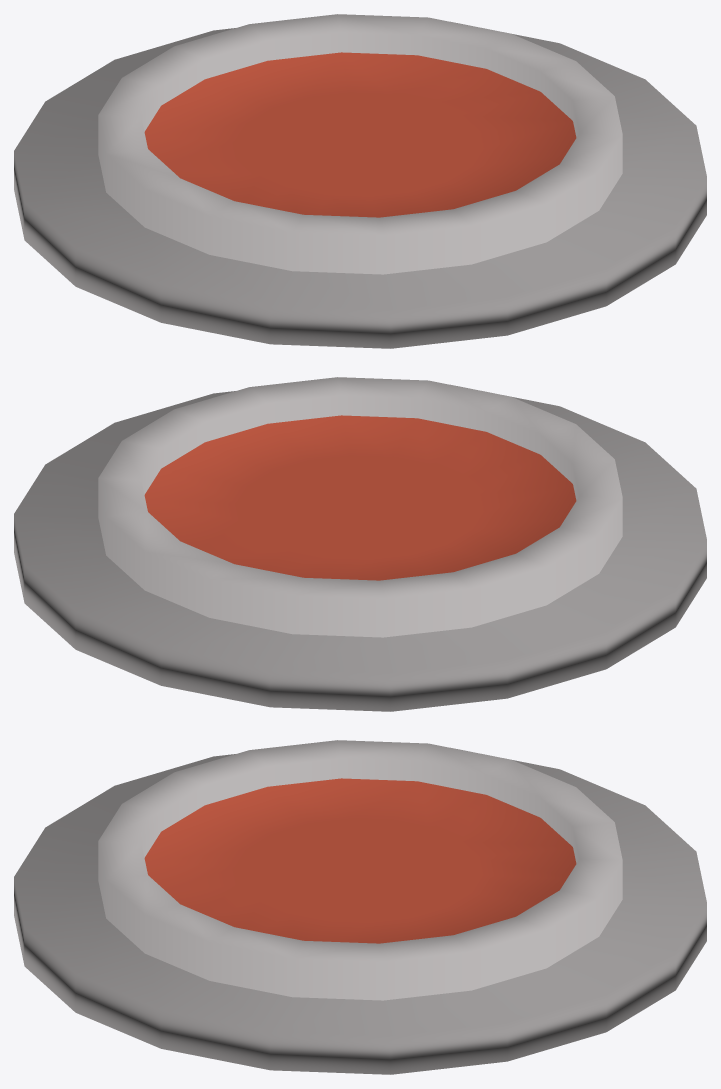
The model's file is teleport_red.fbx.
3 renders of one model, top to bottom at view 1: azimuth 30°, elevation 25°; view 2: azimuth 150°, elevation 25°; view 3: azimuth 270°, elevation 25°, orthographic.
Visible parts, largest first — view 1: Circle; view 2: Circle; view 3: Circle.
Part boxes in pixels (x1=…): Circle: x1=14, y1=14, x2=706, y2=348; Circle: x1=14, y1=377, x2=706, y2=711; Circle: x1=14, y1=740, x2=706, y2=1074.
Bounding box in the file's own units: 5 × 0.6161 × 5.
